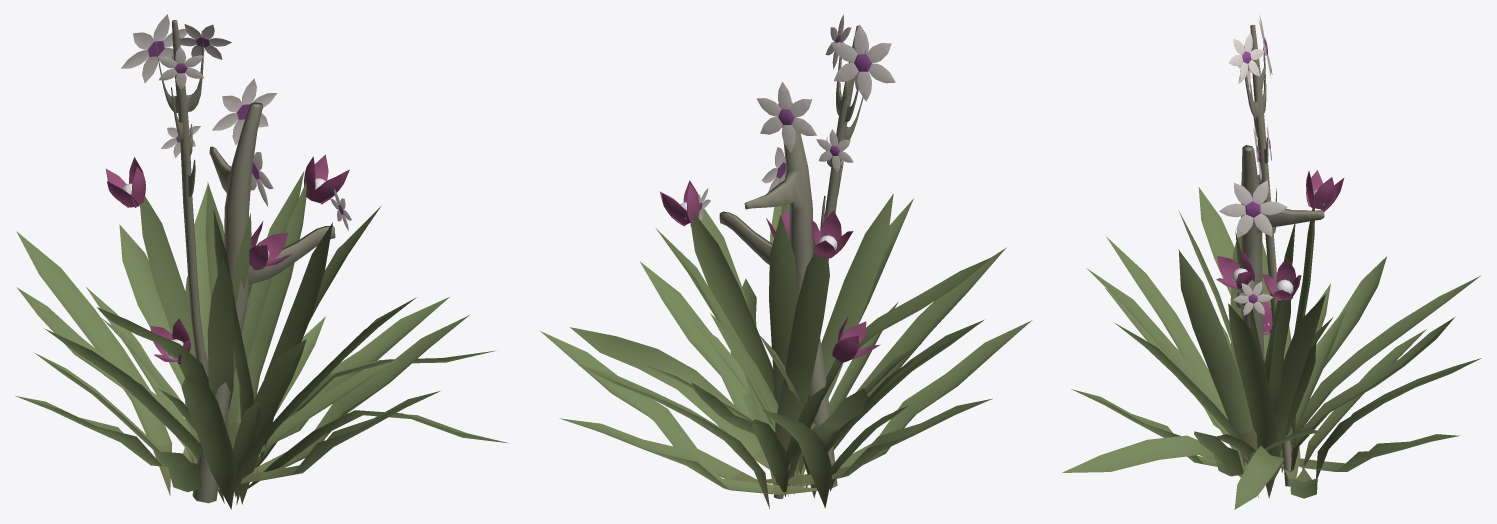
The model's file is PlantA.fbx.
The picture shows the model from 3 angles, left to right: view 1: azimuth 30°, elevation 25°; view 2: azimuth 150°, elevation 25°; view 3: azimuth 270°, elevation 25°; orthographic projection. The views are drawn at different scales.
Parts seen in each view (by area): view 1: pCylinder11; view 2: pCylinder11; view 3: pCylinder11.
Boxes of the visible parts, left/top/right/bottom form: pCylinder11: left=15, top=14, right=508, bottom=509; pCylinder11: left=540, top=14, right=1032, bottom=508; pCylinder11: left=1062, top=14, right=1481, bottom=509.
Size of the model in its own units: 1.08 by 1.14 by 0.9684.
